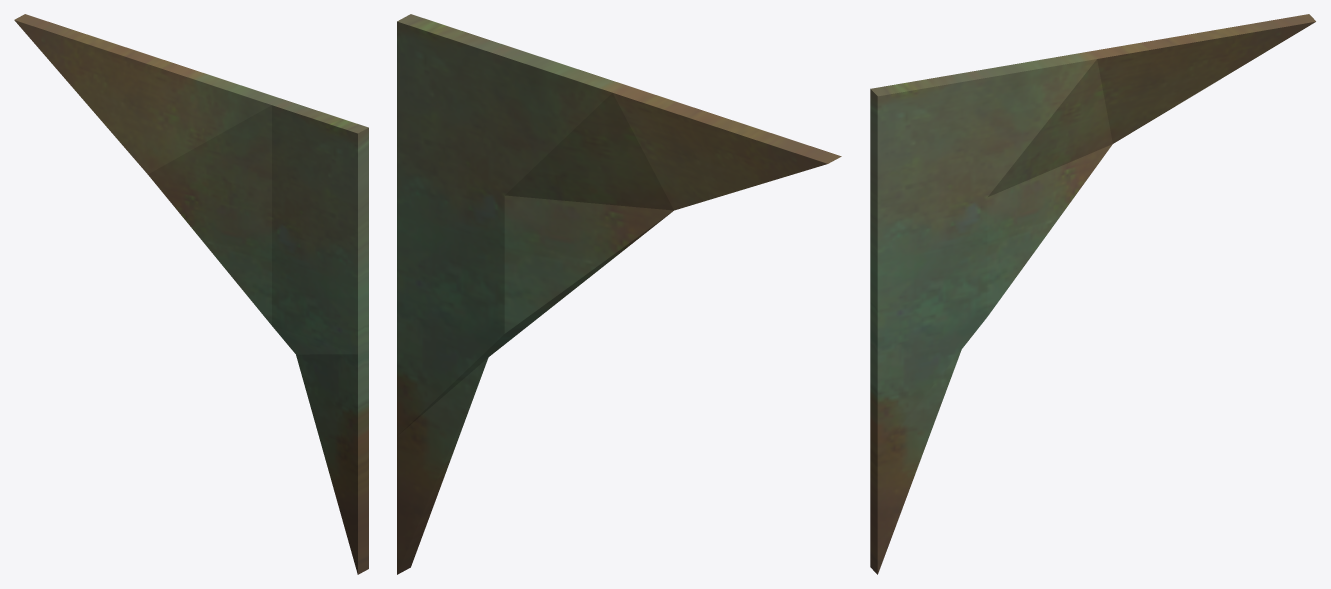
Rendered from GH_1_EmbCR_8.gltf.
3 views of the same model, side by side, from view 1: azimuth 30°, elevation 25°; view 2: azimuth 210°, elevation 25°; view 3: azimuth 270°, elevation 25° (orthographic). The views are drawn at different scales.
Visible parts, largest first — view 1: GH_1_EmbCR_8; view 2: GH_1_EmbCR_8; view 3: GH_1_EmbCR_8.
Part boxes in pixels (x1,y1,x2,y2): GH_1_EmbCR_8: (14, 14, 368, 574); GH_1_EmbCR_8: (397, 14, 841, 574); GH_1_EmbCR_8: (870, 14, 1315, 574).
Size of the model in its own units: 0.5174 by 1.4 by 1.18.
Materials: 1 (1 with a texture image).
